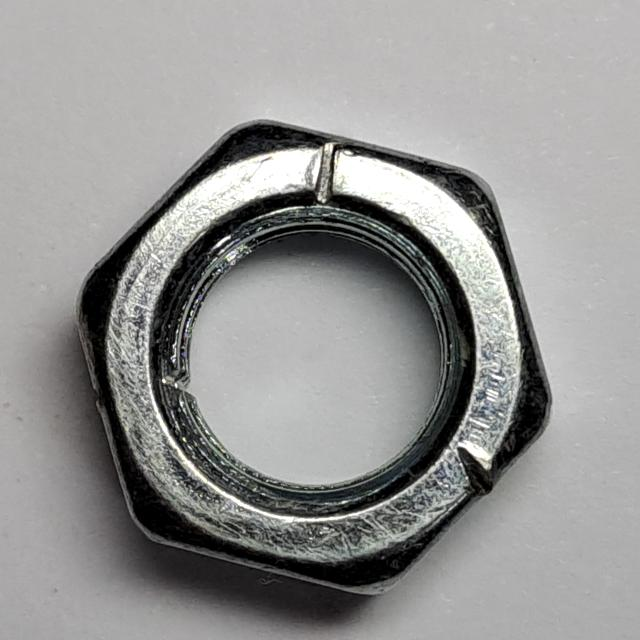Scratches: (66, 102, 567, 611)
